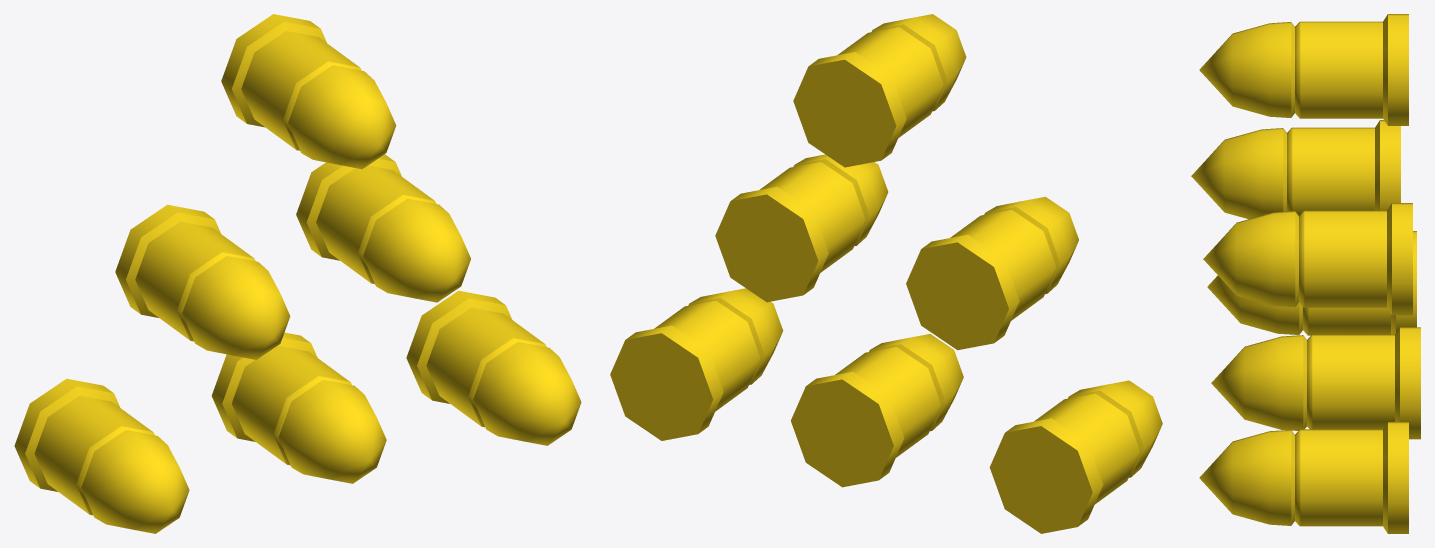
File: strongerweapon.glb
The picture shows the model from 3 angles, left to right: view 1: azimuth 30°, elevation 25°; view 2: azimuth 150°, elevation 25°; view 3: azimuth 270°, elevation 25°; orthographic projection.
Parts seen in each view (by area): view 1: TankBullet (1), TankBullet (3), TankBullet (5), TankBullet (2), TankBullet (4), StrongerWeapon; view 2: TankBullet (5), TankBullet (2), StrongerWeapon, TankBullet (1), TankBullet (3), TankBullet (4); view 3: TankBullet (4), TankBullet (3), TankBullet (5), StrongerWeapon, TankBullet (2), TankBullet (1).
Boxes of the visible parts, left/top/right/bottom form: TankBullet (1): left=14, top=378, right=189, bottom=533; TankBullet (3): left=406, top=290, right=581, bottom=445; TankBullet (5): left=221, top=14, right=396, bottom=169; TankBullet (2): left=115, top=204, right=290, bottom=359; TankBullet (4): left=296, top=154, right=470, bottom=302; StrongerWeapon: left=211, top=332, right=386, bottom=483; TankBullet (5): left=793, top=14, right=966, bottom=167; TankBullet (2): left=906, top=196, right=1078, bottom=350; StrongerWeapon: left=791, top=334, right=963, bottom=487; TankBullet (1): left=989, top=380, right=1162, bottom=533; TankBullet (3): left=610, top=288, right=783, bottom=440; TankBullet (4): left=715, top=154, right=888, bottom=302; TankBullet (4): left=1203, top=203, right=1412, bottom=315; TankBullet (3): left=1199, top=422, right=1408, bottom=533; TankBullet (5): left=1199, top=14, right=1408, bottom=125; StrongerWeapon: left=1211, top=327, right=1420, bottom=439; TankBullet (2): left=1191, top=120, right=1400, bottom=219; TankBullet (1): left=1207, top=231, right=1416, bottom=335.
Bounding box in the file's own units: 1.41 × 1.18 × 0.5753.
